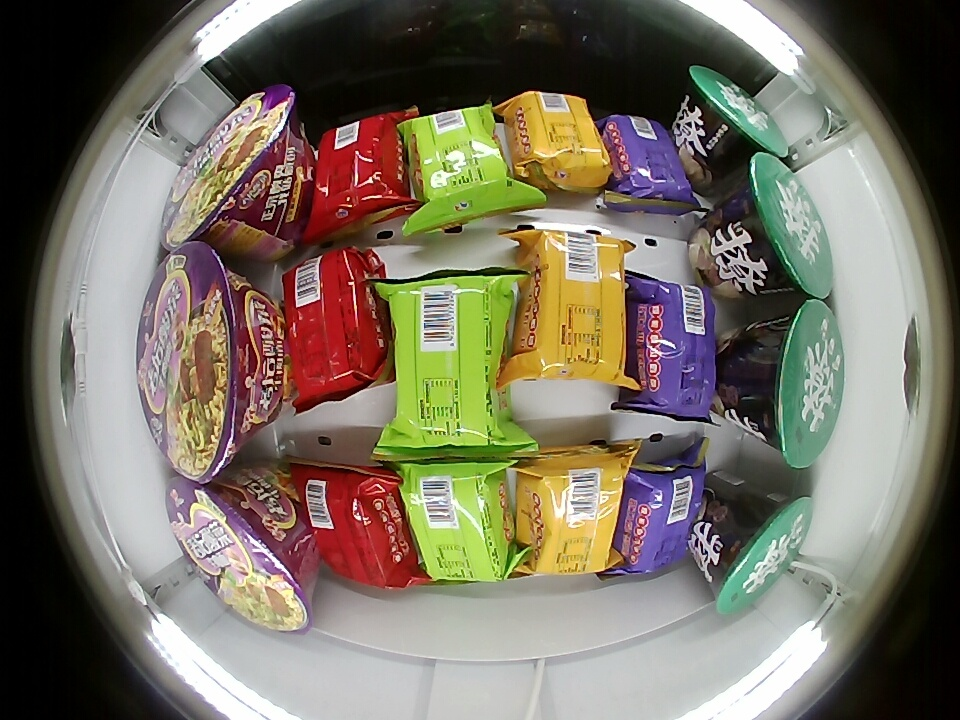kaomo_gali: (515, 231, 627, 380), (518, 443, 624, 576), (511, 91, 611, 193)
kaomo_jiaoyan: (624, 277, 718, 417), (613, 461, 706, 575), (603, 114, 692, 210)
kaomo_shaokao: (282, 248, 391, 403), (299, 464, 414, 588), (310, 113, 412, 232)
kaomo_xiangcon: (391, 272, 515, 459), (401, 462, 512, 584), (404, 104, 512, 220)
laotansuancai: (136, 242, 285, 483), (158, 84, 306, 250), (166, 474, 314, 635)
liaomian: (746, 298, 844, 468), (725, 151, 835, 300), (711, 492, 814, 614), (686, 66, 790, 166)
